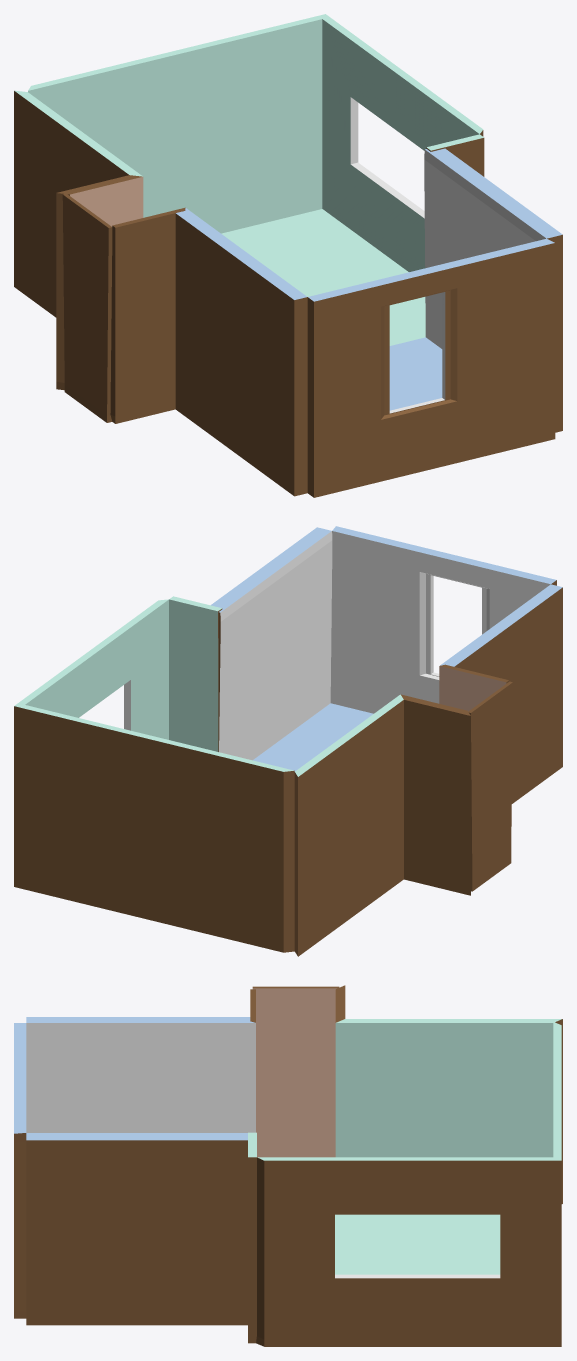
3 renders of one model, top to bottom at view 1: azimuth 30°, elevation 25°; view 2: azimuth 150°, elevation 25°; view 3: azimuth 270°, elevation 25°, orthographic. The views are drawn at different scales.
Parts seen in each view (by area): view 1: wallsplusfloor; view 2: wallsplusfloor; view 3: wallsplusfloor.
Part boxes in pixels (x1,y1,x2,y2): wallsplusfloor: (14, 14, 562, 497); wallsplusfloor: (14, 526, 562, 956); wallsplusfloor: (14, 985, 562, 1346).
Size of the model in its own units: 2927 by 1437 by 3843.
